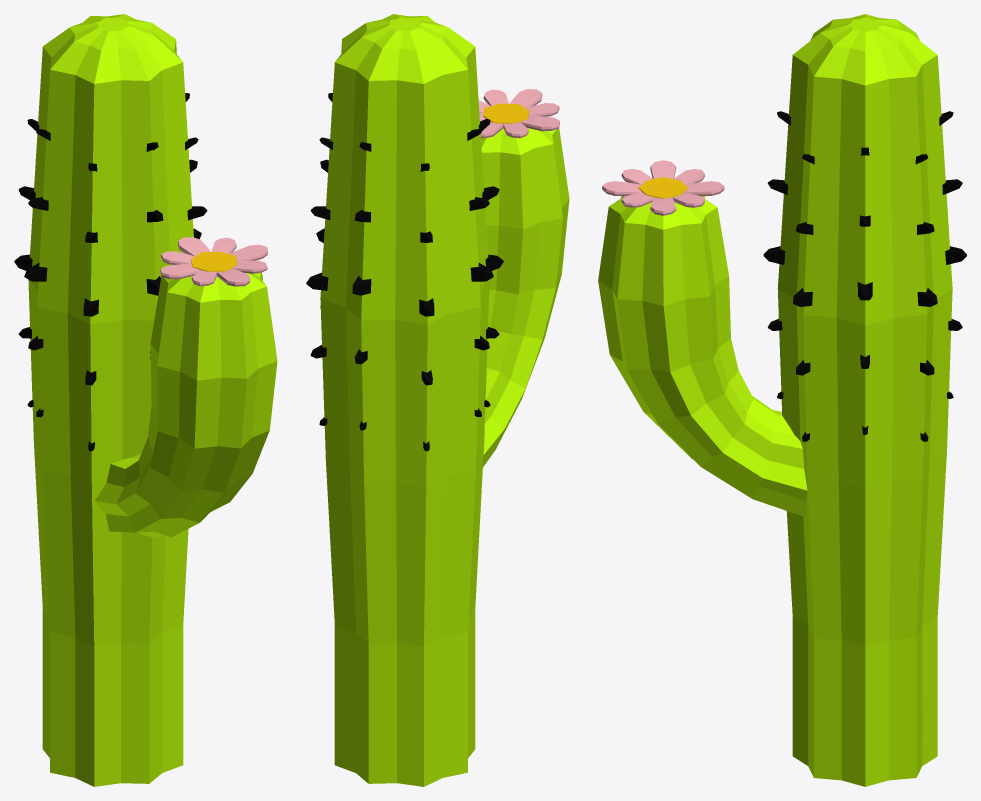
Rendered from Cardon04_01Brazos_Flor_Rosada.fbx.
3 renders of one model, left to right at view 1: azimuth 30°, elevation 25°; view 2: azimuth 150°, elevation 25°; view 3: azimuth 270°, elevation 25°, orthographic.
Parts seen in each view (by area): view 1: Cactus, Flor_Rosada, Espinas; view 2: Cactus, Espinas, Flor_Rosada; view 3: Cactus, Espinas, Flor_Rosada.
Boxes of the visible parts, x1=… form: Cactus: x1=28, y1=14, x2=277, y2=786; Flor_Rosada: x1=160, y1=237, x2=267, y2=286; Espinas: x1=14, y1=93, x2=207, y2=451; Cactus: x1=320, y1=14, x2=569, y2=786; Espinas: x1=306, y1=93, x2=503, y2=451; Flor_Rosada: x1=478, y1=89, x2=559, y2=138; Cactus: x1=598, y1=14, x2=952, y2=786; Espinas: x1=763, y1=111, x2=966, y2=441; Flor_Rosada: x1=602, y1=160, x2=724, y2=215.
Bounding box in the file's own units: 53.18 × 211 × 96.46.
